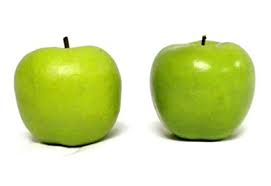apple: (17, 43, 118, 144), (155, 43, 251, 140)
